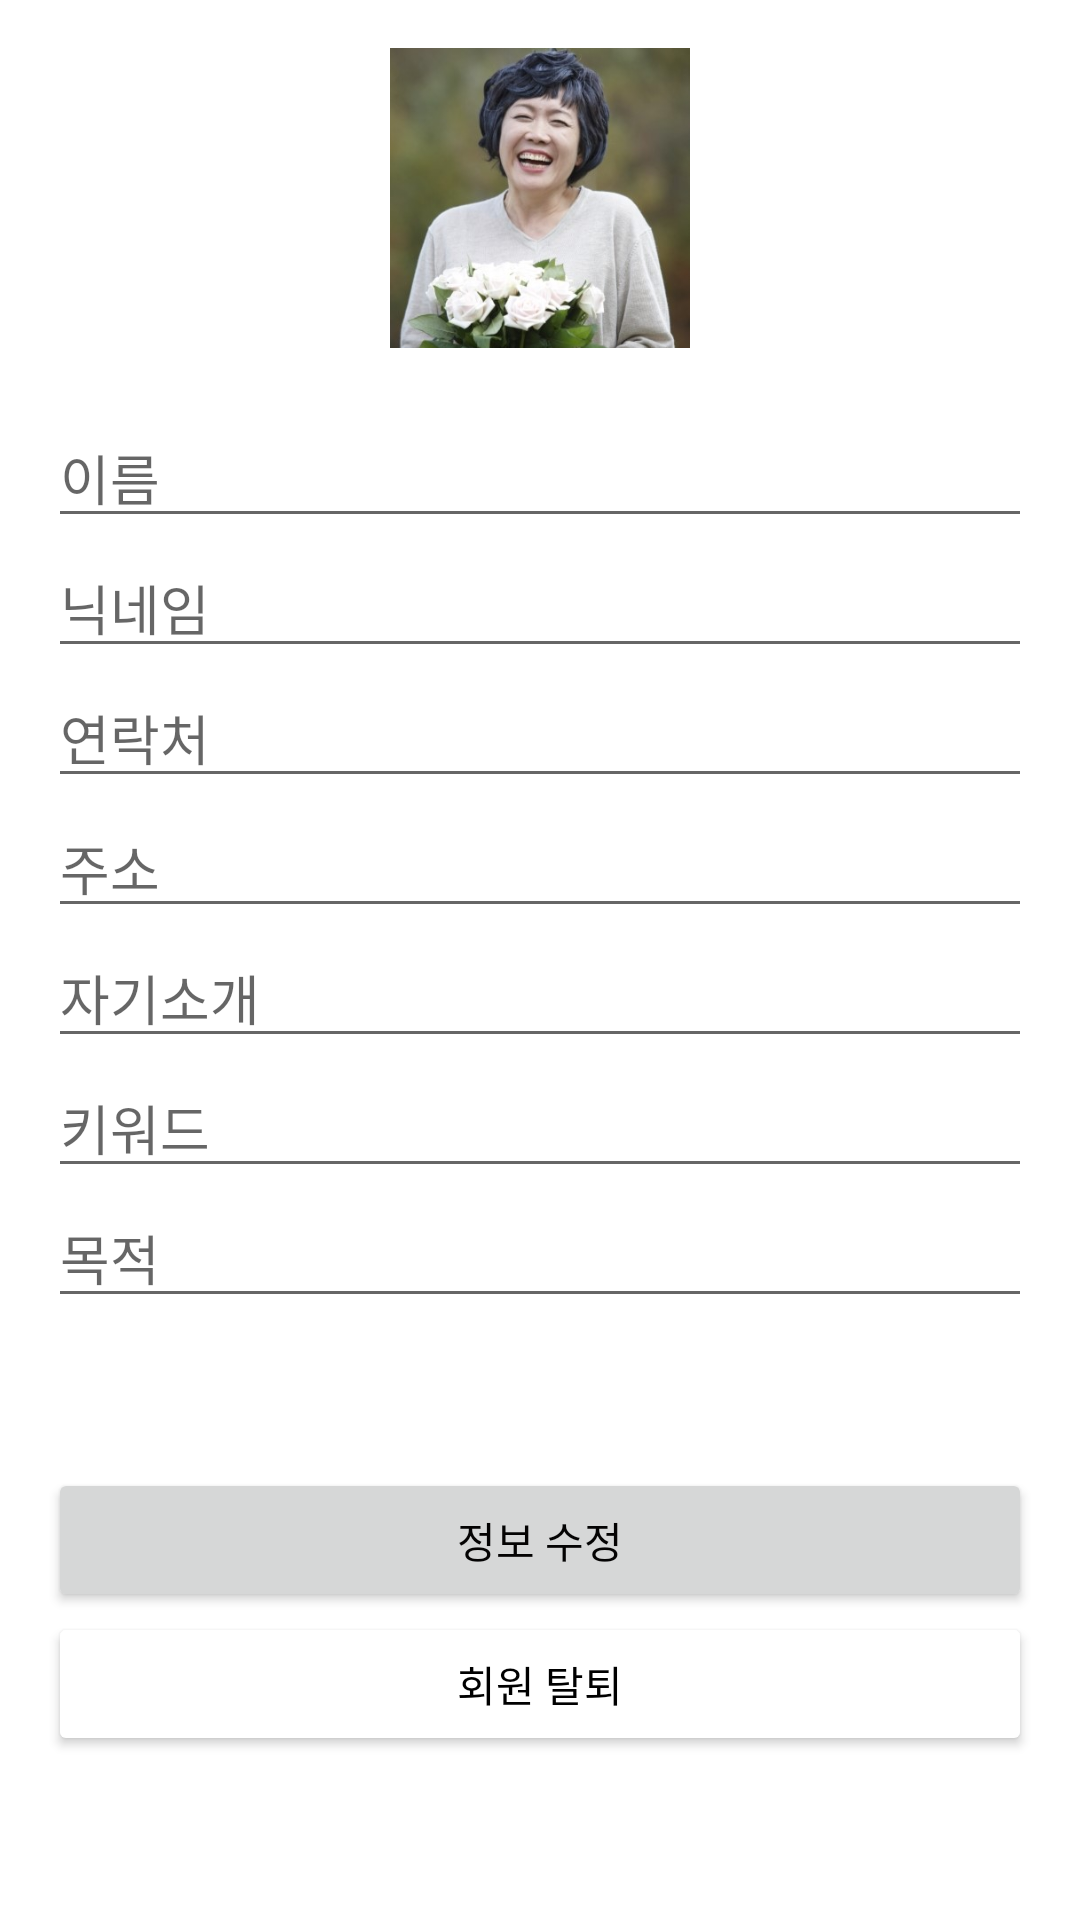

Icon click points for this 1080*1920 phone screenshot, format [x,y]:
Profile Image: [540,198]
